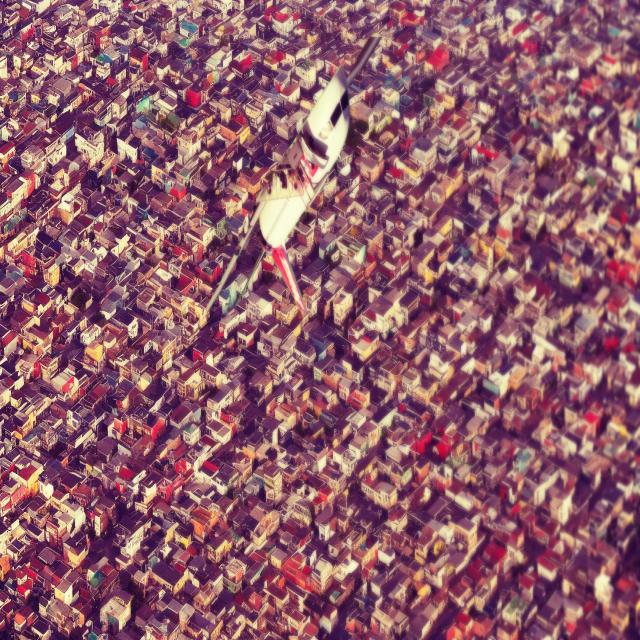airplane: (204, 33, 382, 324)
